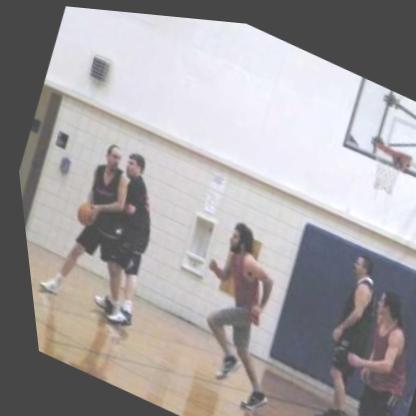basketball: (61, 193, 99, 235)
